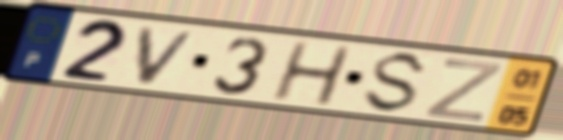2: (53, 16, 134, 87)
3: (211, 35, 272, 97)
H: (267, 40, 356, 109)
S: (358, 50, 433, 116)
V: (135, 24, 203, 87)
Z: (420, 56, 507, 125)
